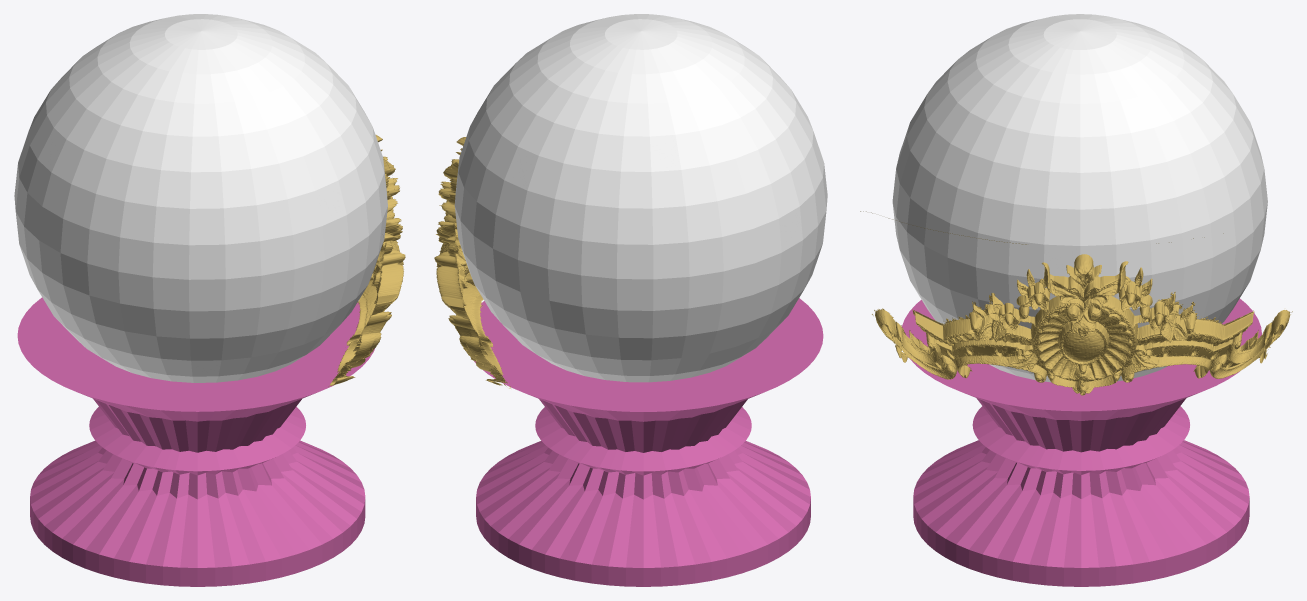
Rendered from glinda_model-compressed.glb.
3 renders of one model, left to right at view 1: azimuth 30°, elevation 25°; view 2: azimuth 150°, elevation 25°; view 3: azimuth 270°, elevation 25°, orthographic.
Visible parts, largest first — view 1: Sphere002, Cylinder, Plane005; view 2: Sphere002, Cylinder, Plane005; view 3: Sphere002, Cylinder, Plane005.
Part boxes in pixels (x1,y1,x2,y2): Sphere002: (14,14,387,382); Cylinder: (17,297,374,586); Plane005: (328,135,405,386); Sphere002: (454,14,827,382); Cylinder: (474,298,823,586); Plane005: (434,137,510,388); Sphere002: (892,14,1267,382); Cylinder: (902,298,1261,586); Plane005: (860,211,1292,395).
Size of the model in its own units: 16.17 by 21.73 by 17.69.
